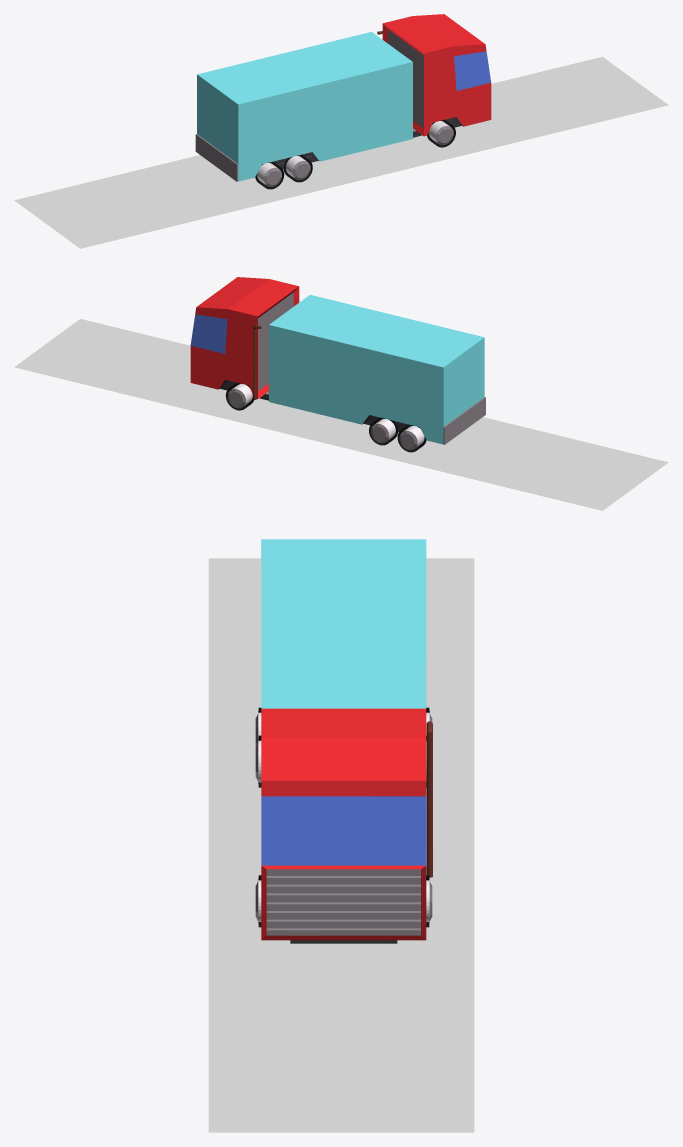
The model's file is kamion.glb.
3 renders of one model, top to bottom at view 1: azimuth 30°, elevation 25°; view 2: azimuth 150°, elevation 25°; view 3: azimuth 270°, elevation 25°, orthographic. The views are drawn at different scales.
Visible parts, largest first — view 1: kamion, Plane; view 2: kamion, Plane; view 3: Plane, kamion.
Part boxes in pixels (x1,y1,x2,y2): kamion: (195, 14, 491, 189); Plane: (14, 57, 668, 248); kamion: (190, 277, 485, 452); Plane: (14, 319, 668, 510); Plane: (208, 558, 474, 1132); kamion: (255, 539, 432, 943).
Size of the model in its own units: 15.98 by 2.56 by 3.12.
1 material, 1 textured.
